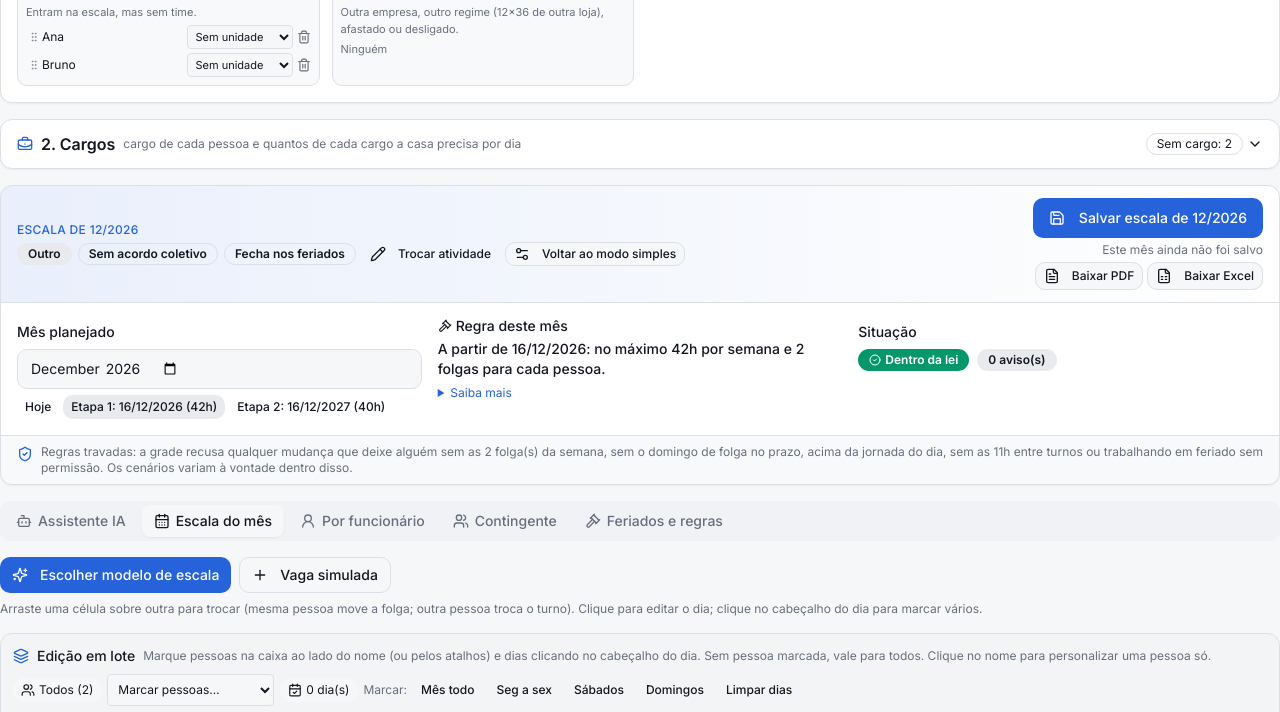
Test case: edição em lote na tela › lixeira na linha da grade abre a exclusão do funcionário
This screenshot has width=1280, height=712.
Click the button "Escolher modelo de escala" at (116, 574), box [0,556,231,592]
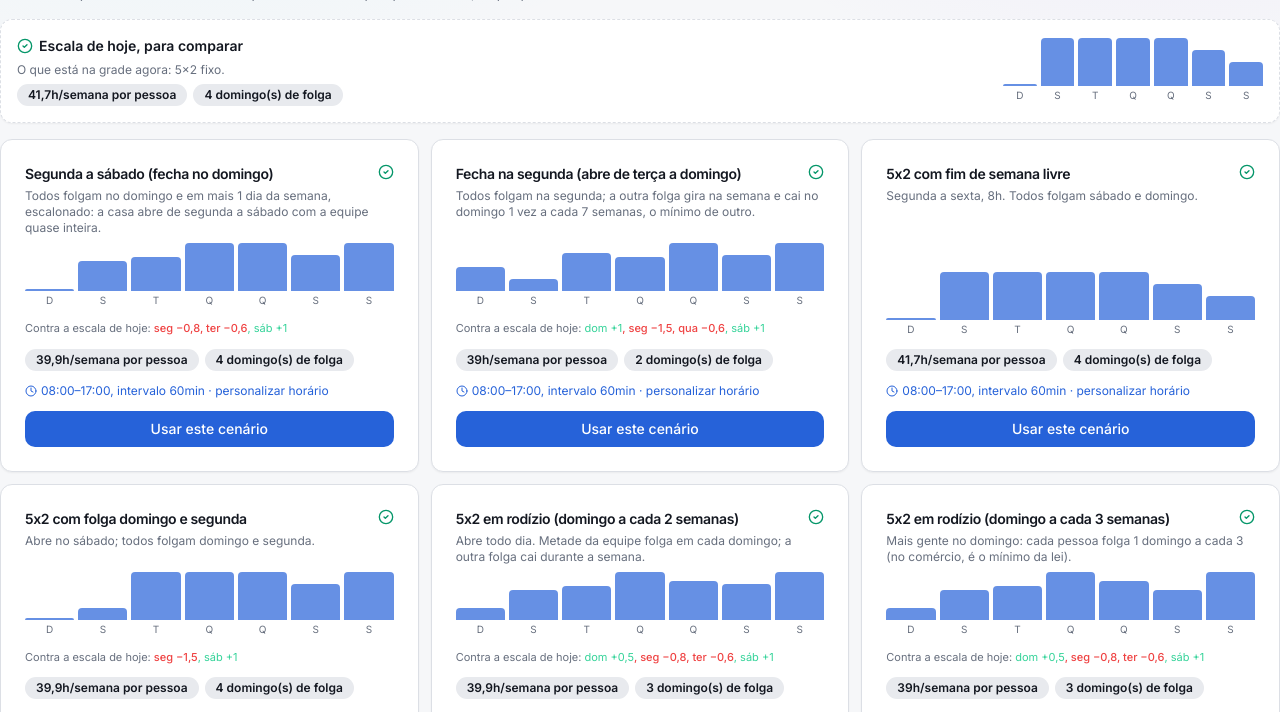
Expected: the button "Usar este cenário" below "Segunda a sábado (fecha no domingo)" is shown
Click the button "Usar este cenário" below "Segunda a sábado (fecha no domingo)" at (209, 428), box [25,410,394,446]
(page scrolled)
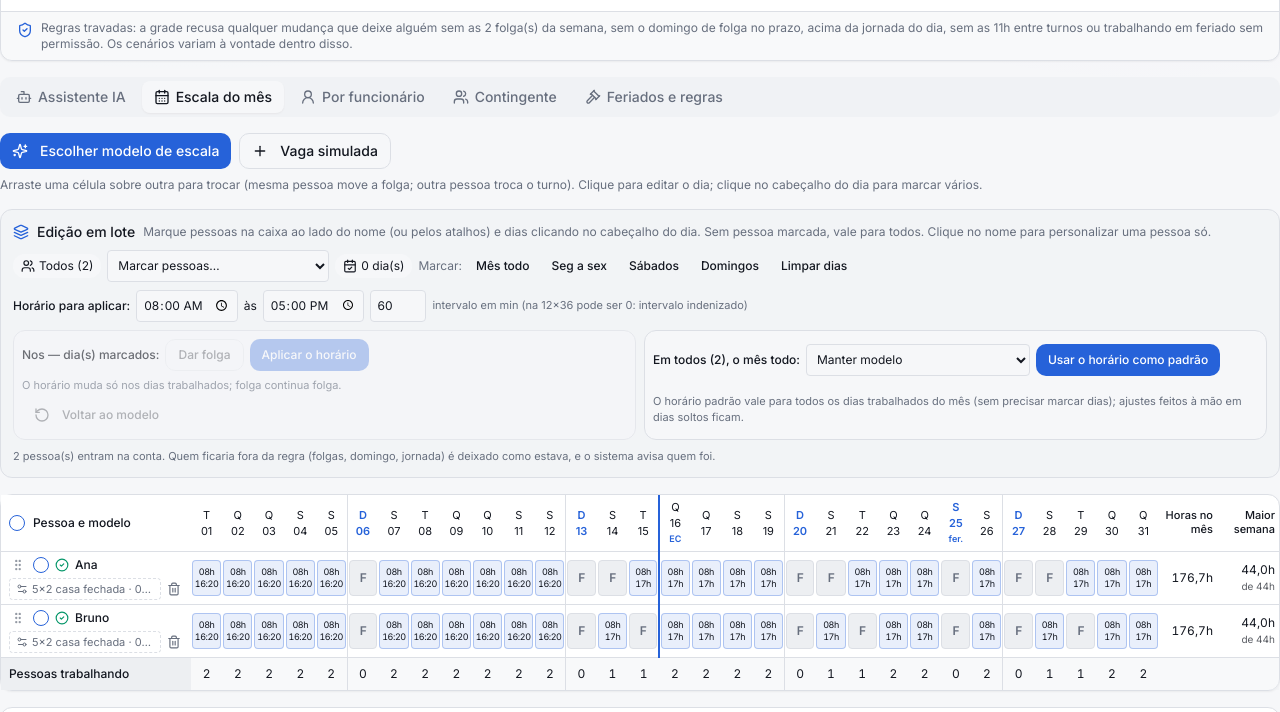
Click the button named "Excluir Ana" at (174, 588), box [165,580,183,598]
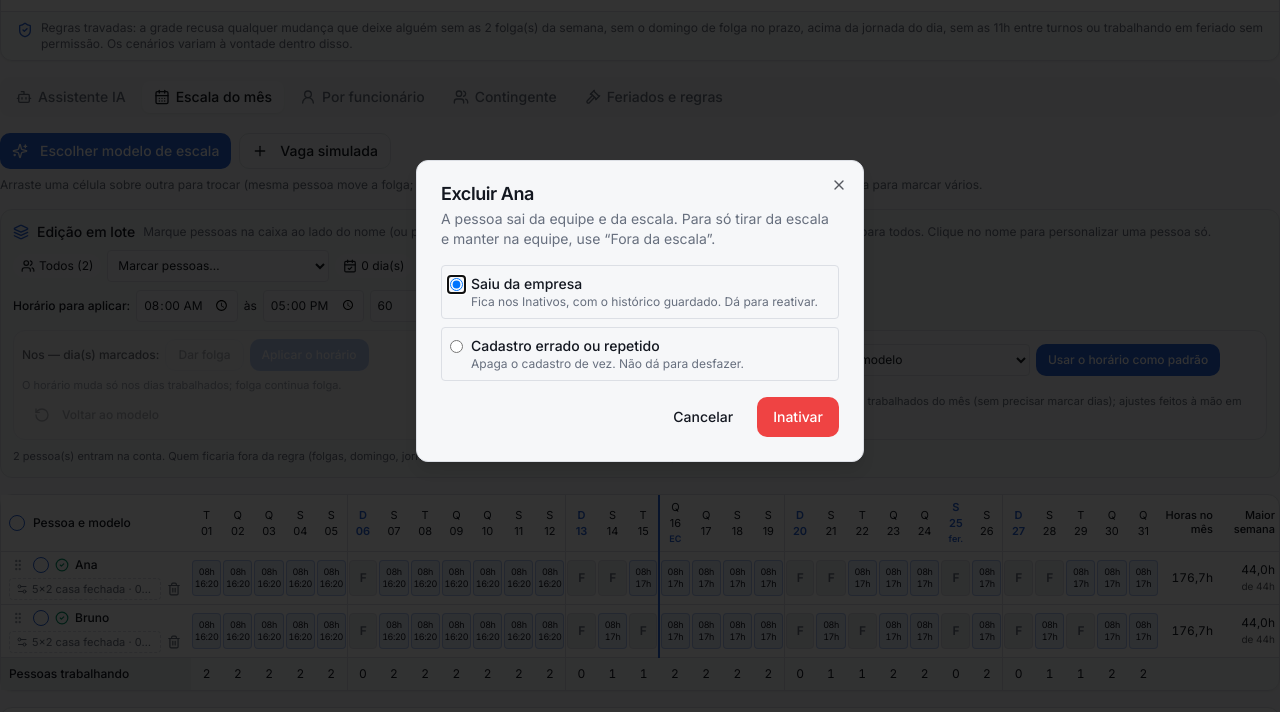
Expected: the text "Saiu da empresa" is shown, [471,275,582,292]
